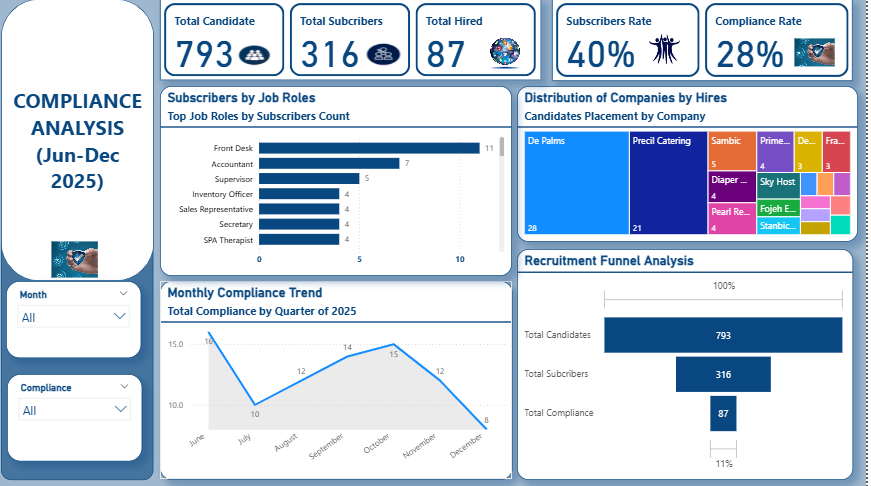

The page's visual inventory and layout, read from the dashboard file:
{"tool":"powerbi","page":{"name":"Dashboard 3","canvas":[1280,720],"ordinal":2},"visuals":[{"type":"cardVisual","title":"Gender Distribution","fields":{"Data":["Subcribers Data.Subscribers Conversion%","Compliance Data.Compliance Rate %"]},"box":[819.5,4.4,440.5,120],"z":0},{"type":"textbox","box":[13.3,140,223.3,568.3],"z":1000},{"type":"treemap","title":"Distribution of Companies by Hires","fields":{"Group":["Compliance Data.Company"],"Values":["CountNonNull(Compliance Data.Names)"]},"box":[767.7,131,498.9,228.5],"z":2000},{"type":"cardVisual","title":"Gender Distribution","fields":{"Data":["CountNonNull(Candidate Data.candidate_name)","CountNonNull(Subcribers Data.Name)","CountNonNull(Compliance Data.Names)"]},"box":[245.2,5,557.7,119.3],"z":3000},{"type":"shape","box":[13.2,4.4,223.9,412.7],"z":4000},{"type":"image","box":[542.6,63.8,60.5,42],"z":5000},{"type":"image","box":[954.1,46.8,60,61.5],"z":6000},{"type":"image","box":[352.8,65.5,63.8,42],"z":7000},{"type":"slicer","title":"Gender Distribution","fields":{"Values":["Candidate Data.date_applied.Variation.Date Hierarchy.Month"]},"box":[20.2,416.6,198.2,112.5],"z":8000},{"type":"image","box":[719,55.4,65.5,60.5],"z":9000},{"type":"slicer","title":"Gender Distribution","fields":{"Values":["Compliance Data.Names"]},"box":[21.8,552.7,198.2,127.7],"z":10000},{"type":"lineChart","title":"Monthly Compliance  Trend","fields":{"Category":["Compliance Data.Date of Resumption.Variation.Date Hierarchy.Month"],"Y":["CountNonNull(Compliance Data.Names)"]},"box":[245.2,416.6,515.7,290.6],"z":11000},{"type":"funnel","title":"Recruitment Funnel Analysis","fields":{"Y":["CountNonNull(Candidate Data.candidate_name)","CountNonNull(Subcribers Data.Name)","CountNonNull(Compliance Data.Names)"]},"box":[767.7,369.6,492.2,337.6],"z":12000},{"type":"clusteredBarChart","title":"Subscribers by Job Roles","fields":{"Y":["CountNonNull(Compliance Data.Names)"],"Category":["Compliance Data.Roles"]},"box":[245.9,131.7,515.1,278],"z":13000},{"type":"image","box":[82,354.1,77.6,62.9],"z":14000},{"type":"image","box":[1169.3,57.1,68.8,51.2],"z":15000}]}

Visuals, with their boxes in screenshot pixels (x1, y1, x2, y2), scaled from the page's 1280x720 canvas onto the 871x486 screenshot:
"Gender Distribution" cardVisual: 558,3,857,84
textbox: 9,94,161,478
"Distribution of Companies by Hires" treemap: 522,88,862,243
"Gender Distribution" cardVisual: 167,3,546,84
shape: 9,3,161,282
image: 369,43,410,71
image: 649,32,690,73
image: 240,44,283,73
"Gender Distribution" slicer: 14,281,149,357
image: 489,37,534,78
"Gender Distribution" slicer: 15,373,150,459
"Monthly Compliance  Trend" lineChart: 167,281,518,477
"Recruitment Funnel Analysis" funnel: 522,249,857,477
"Subscribers by Job Roles" clusteredBarChart: 167,89,518,277
image: 56,239,109,281
image: 796,39,842,73
